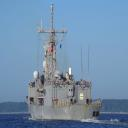Fragata: (26, 1, 104, 124)
